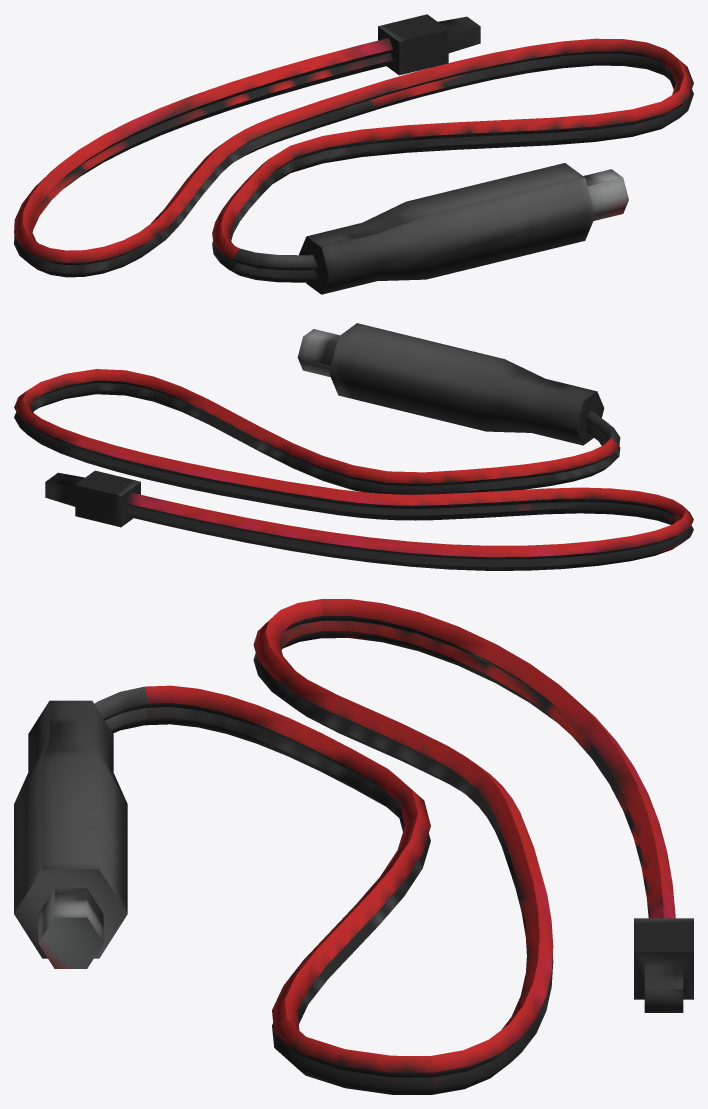
The model's file is cableGPS3d.fbx.
3 views of the same model, one above another, from view 1: azimuth 30°, elevation 25°; view 2: azimuth 150°, elevation 25°; view 3: azimuth 270°, elevation 25° (orthographic). The views are drawn at different scales.
Visible parts, largest first — view 1: cableGPS; view 2: cableGPS; view 3: cableGPS.
Part boxes in pixels (x1,y1,x2,y2): cableGPS: [14, 14, 693, 294]; cableGPS: [14, 323, 693, 570]; cableGPS: [14, 599, 693, 1094].
Size of the model in its own units: 46.3 by 4.09 by 28.25.
Materials: 1 (1 with a texture image).
